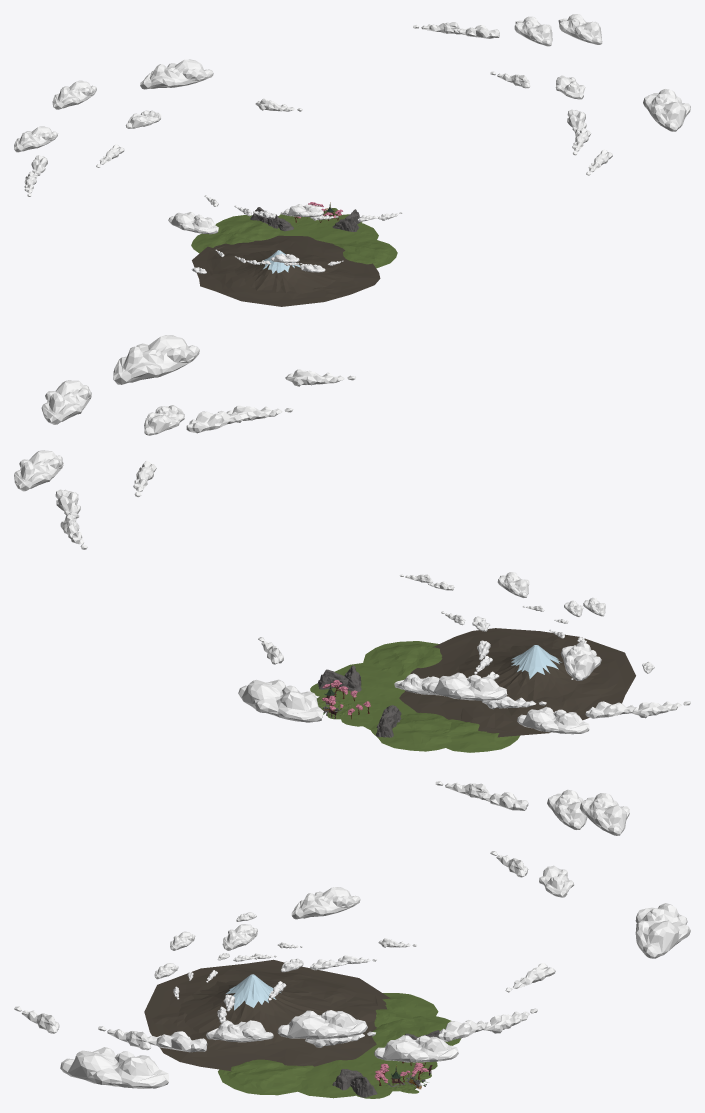
The model's file is Fuji.fbx.
3 views of the same model, one above another, from view 1: azimuth 30°, elevation 25°; view 2: azimuth 150°, elevation 25°; view 3: azimuth 270°, elevation 25° (orthographic). The views are drawn at different scales.
Parts seen in each view (by area): view 1: SM_Env_GroundMound_Fuji_01_1080, SM_Env_Fuji_01_1077, SM_Env_Cloud_16, SM_Env_Cloud_6, SM_Env_GroundMound_91, SM_Env_GroundMound_89, SM_Env_GroundMound_87, SM_Env_Cloud_03_791, SM_Env_Cloud_9, SM_Env_Cloud_26, SM_Env_Cloud_5, SM_Env_Cloud_13 (+3 smaller); view 2: SM_Env_GroundMound_Fuji_01_1080, SM_Env_Fuji_01_1077, SM_Env_Cloud_6, SM_Env_Cloud_16, SM_Env_GroundMound_89, SM_Env_GroundMound_91, SM_Env_Cloud_9, SM_Env_GroundMound_90, SM_Env_Cloud_03_791, SM_Env_GroundMound_87, SM_Env_Cloud_13, SM_Env_Cloud_5 (+4 smaller); view 3: SM_Env_GroundMound_Fuji_01_1080, SM_Env_Fuji_01_1077, SM_Env_Cloud_6, SM_Env_GroundMound_91, SM_Env_Cloud_16, SM_Env_Cloud_03_791, SM_Env_Cloud_5, SM_Env_GroundMound_87, SM_Env_Cloud_26, SM_Env_Cloud_9, SM_Env_GroundMound_90, SM_Env_GroundMound_89 (+11 smaller).
Part boxes in pixels (x1,y1,x2,y2): SM_Env_GroundMound_Fuji_01_1080: (192, 235, 380, 306); SM_Env_Fuji_01_1077: (234, 250, 337, 293); SM_Env_Cloud_16: (140, 59, 213, 89); SM_Env_Cloud_6: (643, 89, 690, 131); SM_Env_GroundMound_91: (334, 240, 397, 268); SM_Env_GroundMound_89: (215, 215, 281, 240); SM_Env_GroundMound_87: (308, 222, 378, 243); SM_Env_Cloud_03_791: (558, 14, 602, 44); SM_Env_Cloud_9: (52, 80, 96, 109); SM_Env_Cloud_26: (168, 212, 218, 234); SM_Env_Cloud_5: (514, 16, 552, 46); SM_Env_Cloud_13: (14, 126, 58, 152); SM_Env_GroundMound_Fuji_01_1080: (399, 628, 635, 737); SM_Env_Fuji_01_1077: (456, 645, 599, 701); SM_Env_Cloud_6: (113, 335, 199, 384); SM_Env_Cloud_16: (238, 679, 323, 722); SM_Env_GroundMound_89: (370, 712, 451, 751); SM_Env_GroundMound_91: (363, 641, 442, 679); SM_Env_Cloud_9: (427, 672, 507, 700); SM_Env_GroundMound_90: (441, 719, 519, 752); SM_Env_Cloud_03_791: (41, 380, 91, 424); SM_Env_GroundMound_87: (334, 663, 404, 701); SM_Env_Cloud_13: (517, 706, 589, 734); SM_Env_Cloud_5: (14, 450, 63, 491); SM_Env_GroundMound_Fuji_01_1080: (144, 959, 390, 1071); SM_Env_Fuji_01_1077: (179, 974, 333, 1045); SM_Env_Cloud_6: (60, 1047, 168, 1088); SM_Env_GroundMound_91: (218, 1059, 313, 1095); SM_Env_Cloud_16: (635, 903, 690, 958); SM_Env_Cloud_03_791: (277, 1010, 367, 1039); SM_Env_Cloud_5: (374, 1035, 458, 1062); SM_Env_GroundMound_87: (298, 1059, 375, 1098); SM_Env_Cloud_26: (291, 887, 360, 919); SM_Env_Cloud_9: (579, 793, 629, 835); SM_Env_GroundMound_90: (374, 993, 438, 1027); SM_Env_GroundMound_89: (372, 1016, 461, 1047).
Size of the model in its own units: 50157 by 14622 by 39396.
1 material, 1 textured.
